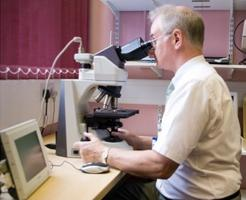person: (74, 5, 242, 200)
